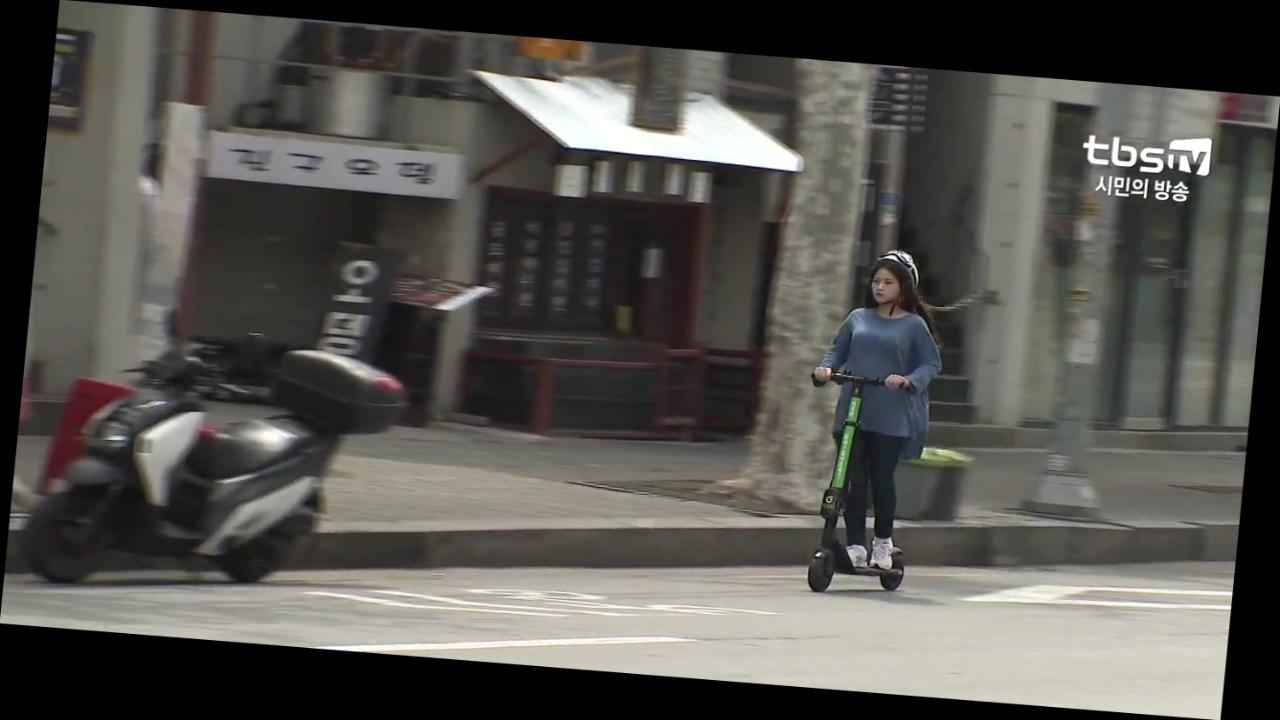helmet: (791, 242, 953, 603)
